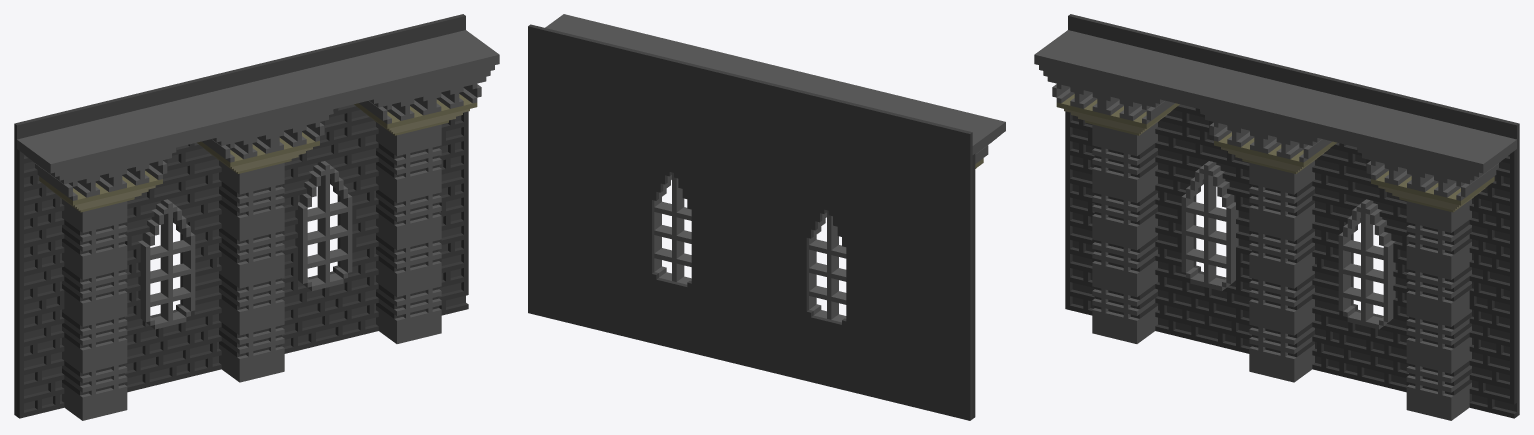
The model's file is Background2.obj.
3 views of the same model, side by side, from view 1: azimuth 30°, elevation 25°; view 2: azimuth 150°, elevation 25°; view 3: azimuth 330°, elevation 25° (orthographic).
Visible parts, largest first — view 1: Untitled; view 2: Untitled; view 3: Untitled.
Boxes of the visible parts, x1,y1,x2,y2 form: Untitled: [14, 14, 499, 420]; Untitled: [528, 14, 1005, 420]; Untitled: [1034, 14, 1519, 420].
Bounding box in the file's own units: 100 × 62 × 14.
